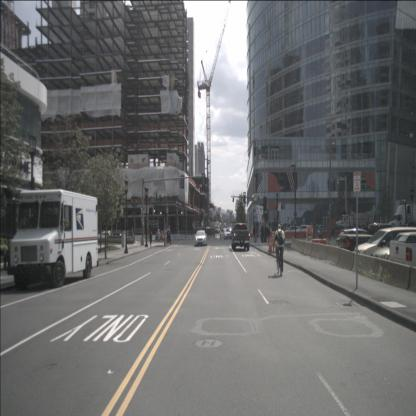barrier: (374, 256, 411, 290), (350, 251, 376, 280), (337, 248, 354, 270), (310, 242, 329, 260), (326, 245, 340, 265), (283, 232, 304, 240), (290, 237, 300, 252), (304, 240, 312, 256), (298, 240, 306, 254), (130, 235, 145, 242), (320, 231, 331, 238), (145, 236, 157, 242), (334, 230, 343, 238), (174, 234, 185, 240), (186, 234, 196, 240), (167, 235, 175, 240)
cone: (271, 232, 276, 253)
